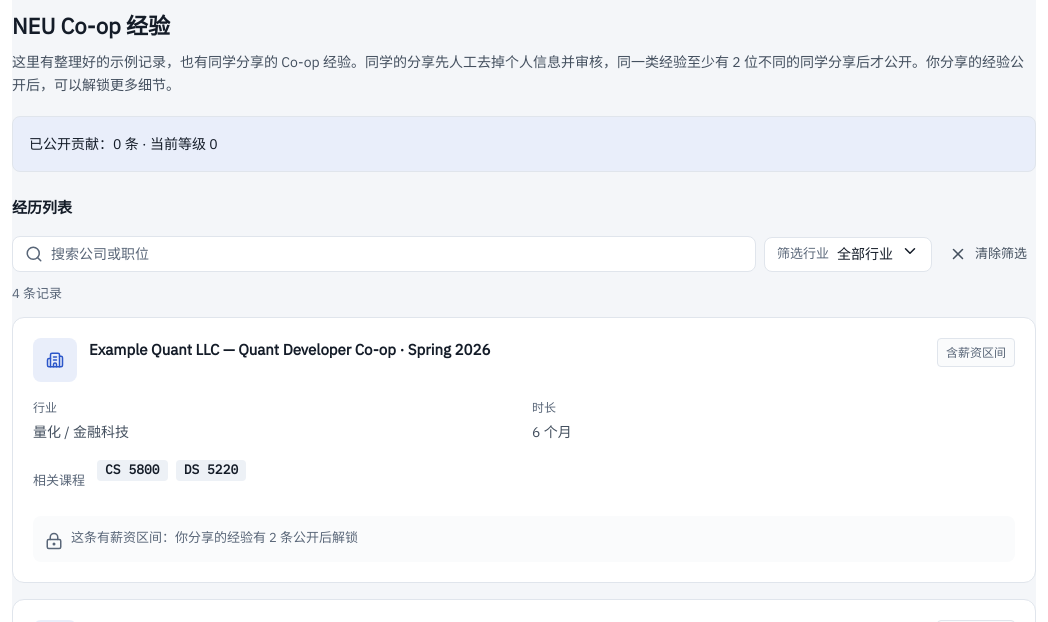
Scenario: industry and keyword filters intersect and clear restores focus
Click the dropdown labelled "筛选行业 全部行业" at (848, 254), box [764,237,932,272]
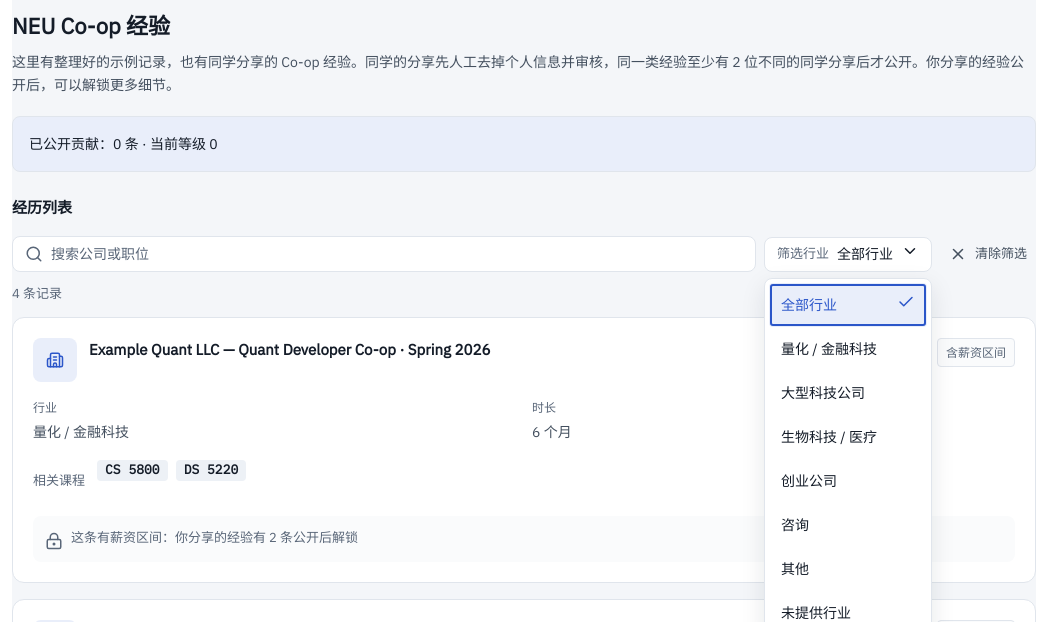
Click the option "量化 / 金融科技" at (829, 349), box [781,340,877,358]
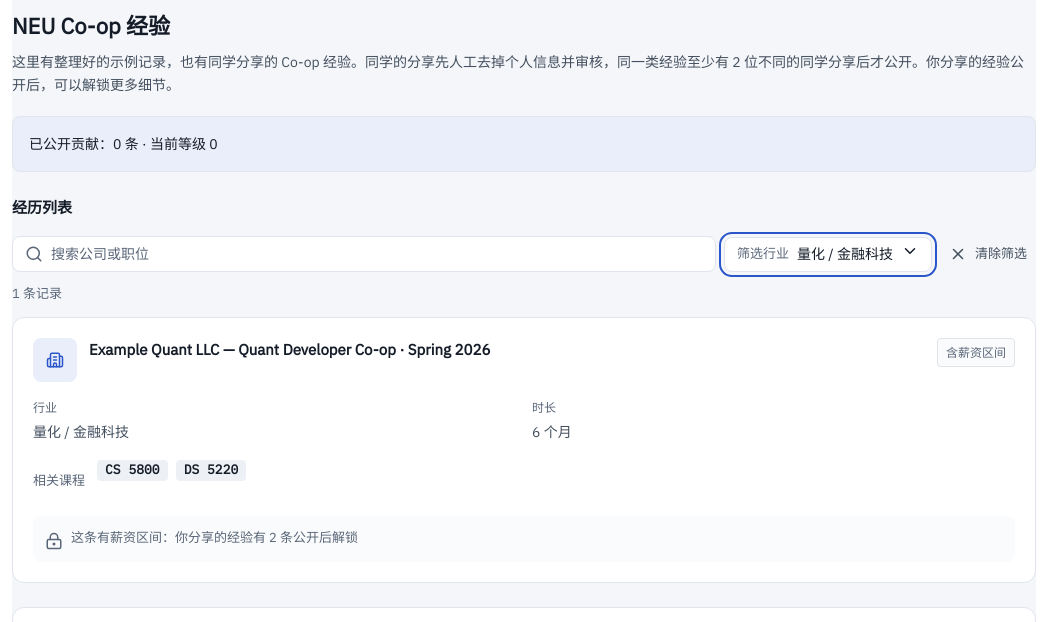
Type "health" into the search field at (377, 254), box [51,237,703,271]
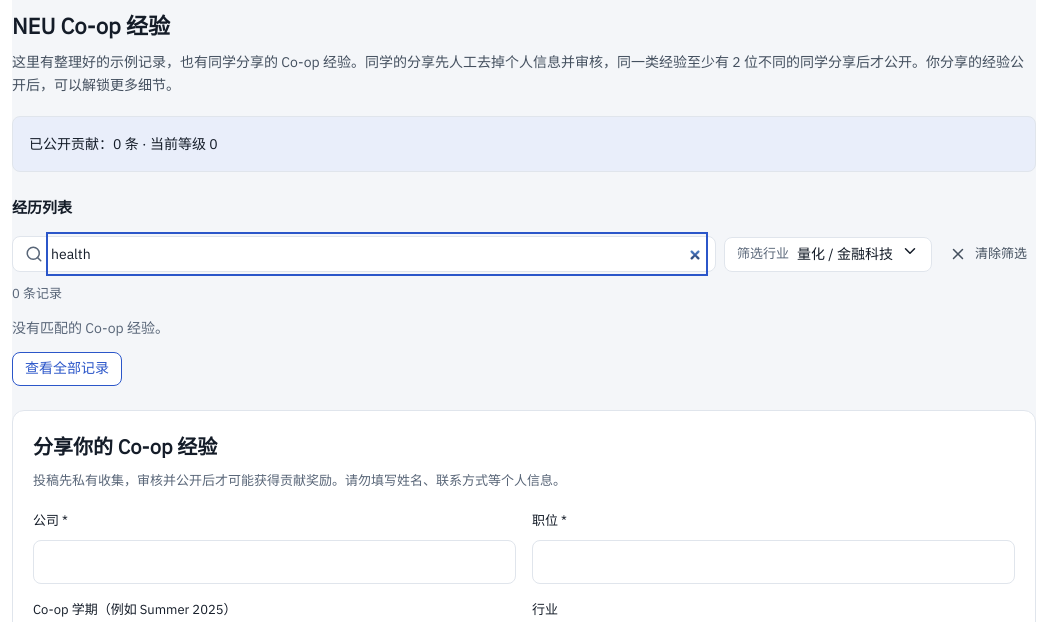
Click the button "查看全部记录" at (67, 368), box [12,352,122,386]
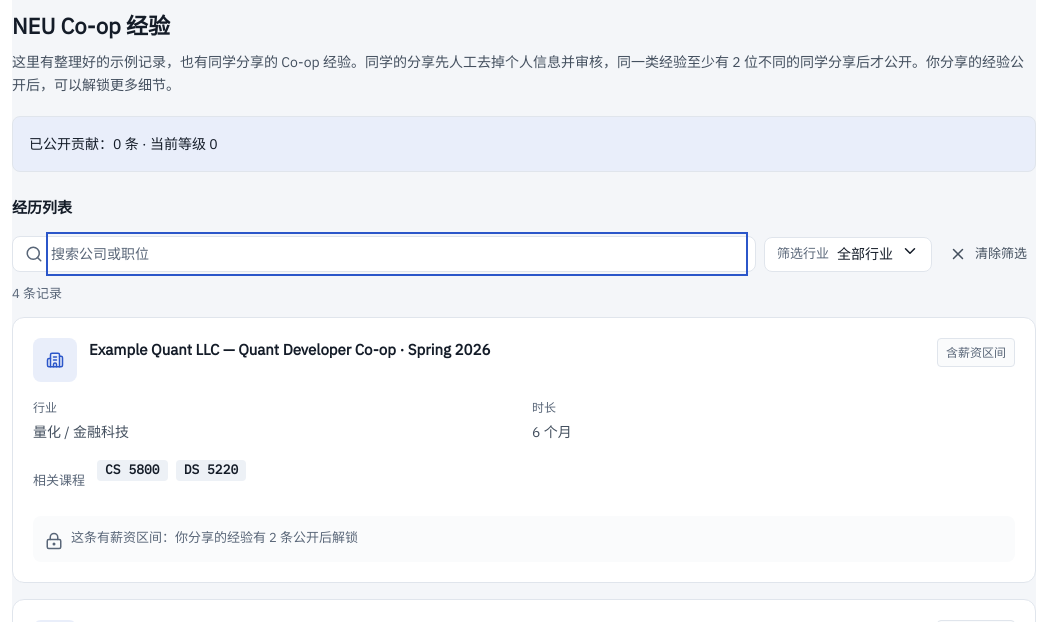
Expected: the search field is empty, [51,237,743,271]
Expected: the dropdown labelled "筛选行业 全部行业" is shown, [764,237,932,272]
